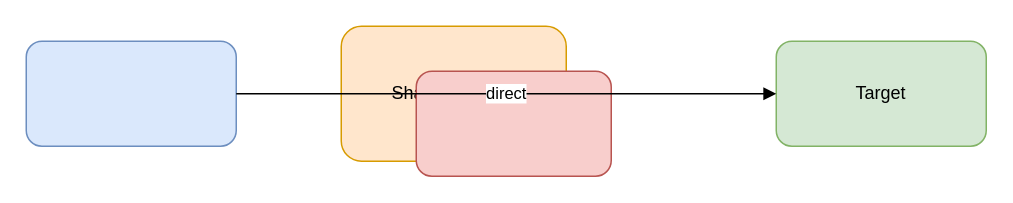
The diagram is 1013 pixels wide and 203 high, and some of its shapes have lost their labels. The centre of each missing label's shape, as x and y in pixels:
"Overlap Node" belongs at (513,123).
"Source" belongs at (130,93).
